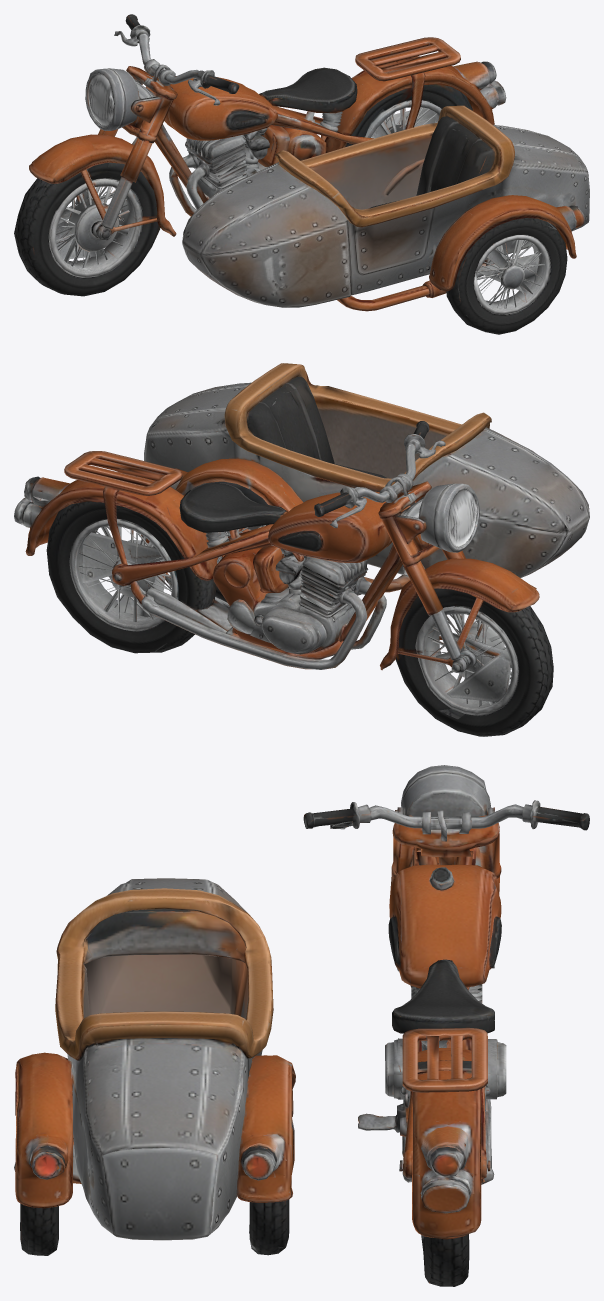
File: meshy-vehicle-sidecar.glb
3 views of the same model, one above another, from view 1: azimuth 30°, elevation 25°; view 2: azimuth 150°, elevation 25°; view 3: azimuth 270°, elevation 25° (orthographic). The views are drawn at different scales.
Size of the model in its own units: 0.9502 by 0.4268 by 0.7021.
1 material, 1 textured.
